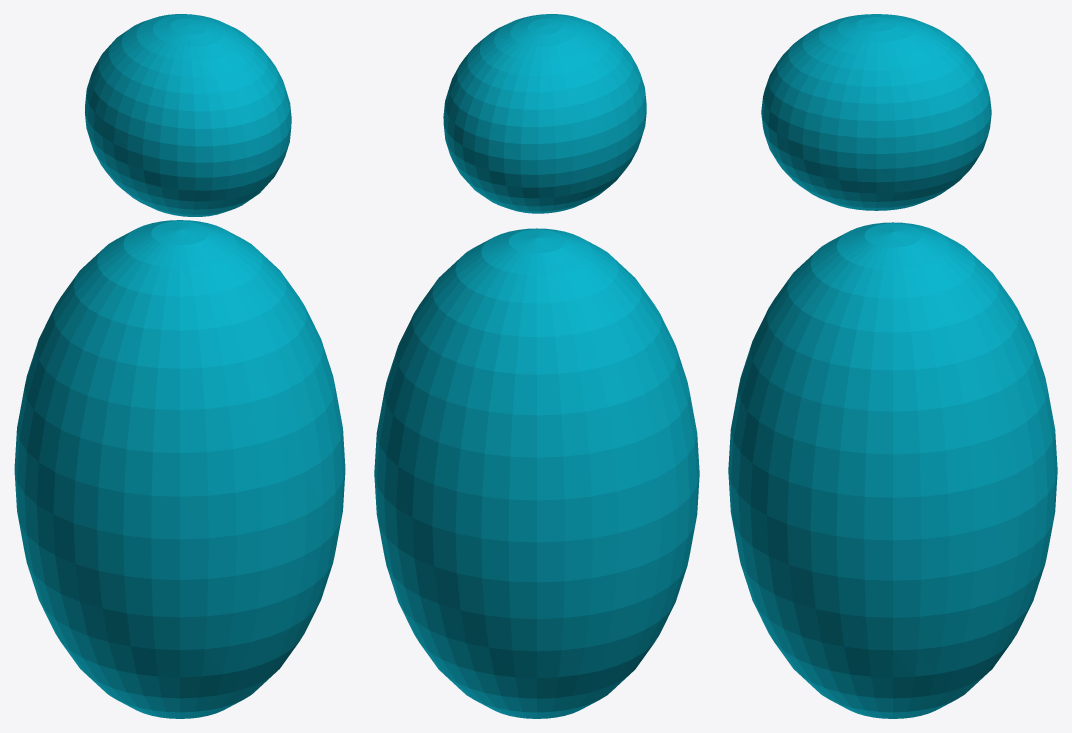
File: Human.glb
3 renders of one model, left to right at view 1: azimuth 30°, elevation 25°; view 2: azimuth 150°, elevation 25°; view 3: azimuth 270°, elevation 25°, orthographic.
Parts seen in each view (by area): view 1: Mesh_Mesh_head_geo.001_lambert2SG.001; view 2: Mesh_Mesh_head_geo.001_lambert2SG.001; view 3: Mesh_Mesh_head_geo.001_lambert2SG.001.
Boxes of the visible parts, x1,y1,x2,y2 form: Mesh_Mesh_head_geo.001_lambert2SG.001: [14, 14, 345, 718]; Mesh_Mesh_head_geo.001_lambert2SG.001: [374, 14, 699, 718]; Mesh_Mesh_head_geo.001_lambert2SG.001: [728, 14, 1057, 718].
Bounding box in the file's own units: 10 × 23 × 10.
